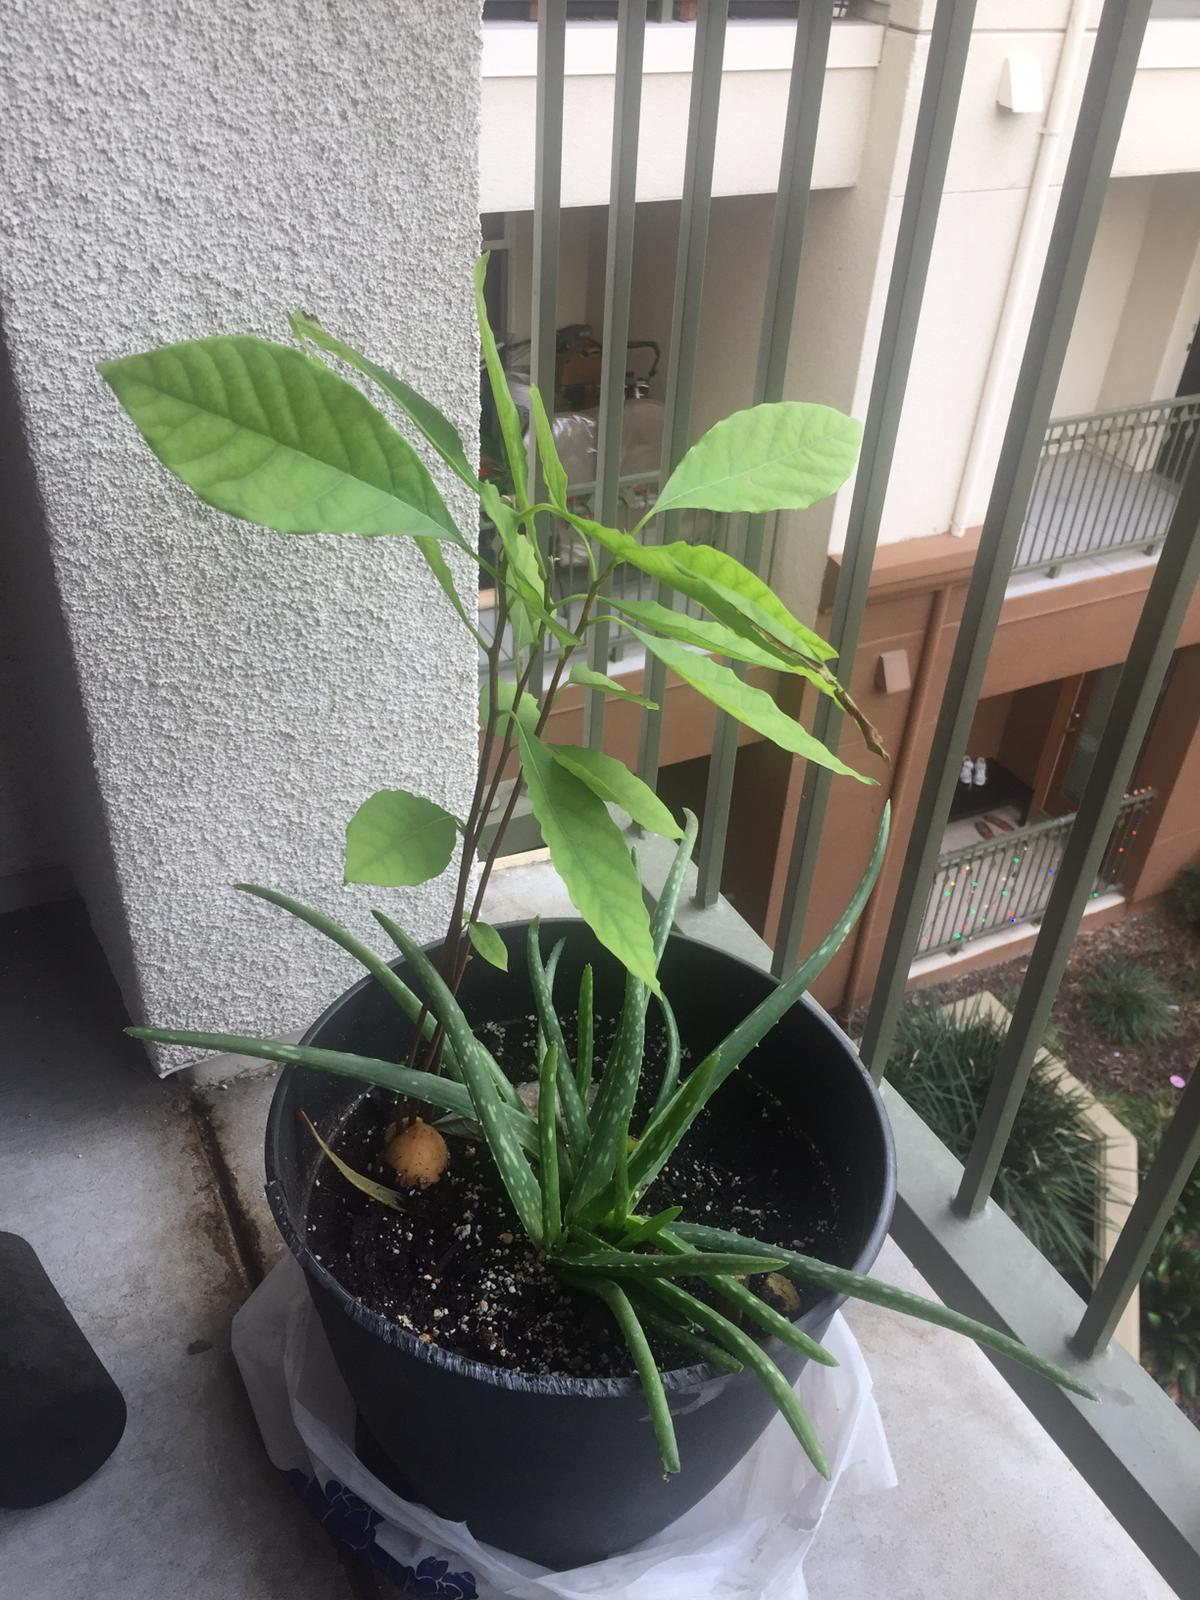plants: (102, 360, 863, 925), (458, 936, 863, 1398)
